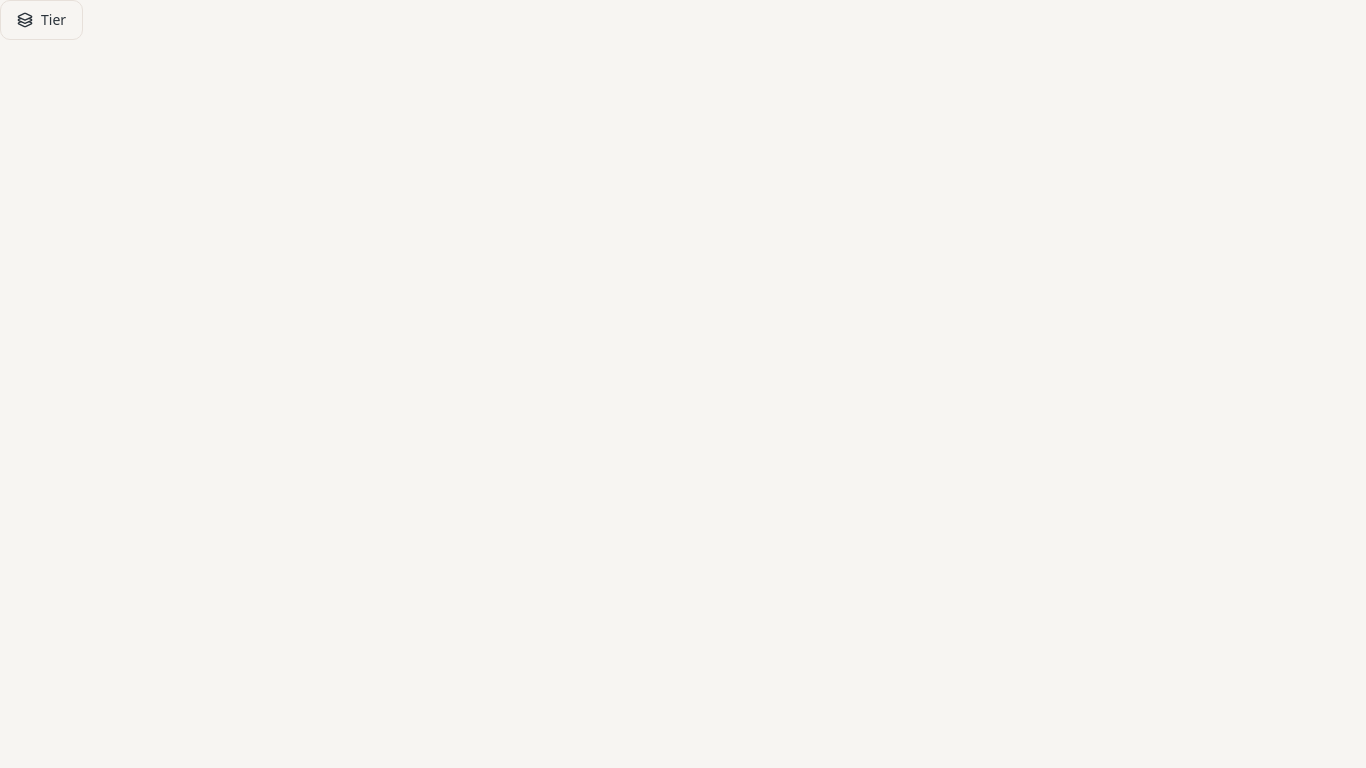
keeps deletion errors visible without claiming the tier was removed
The width and height of the screenshot is (1366, 768).
Step 1. Click the button "Tier" → point(42, 20), box [0, 0, 83, 40]
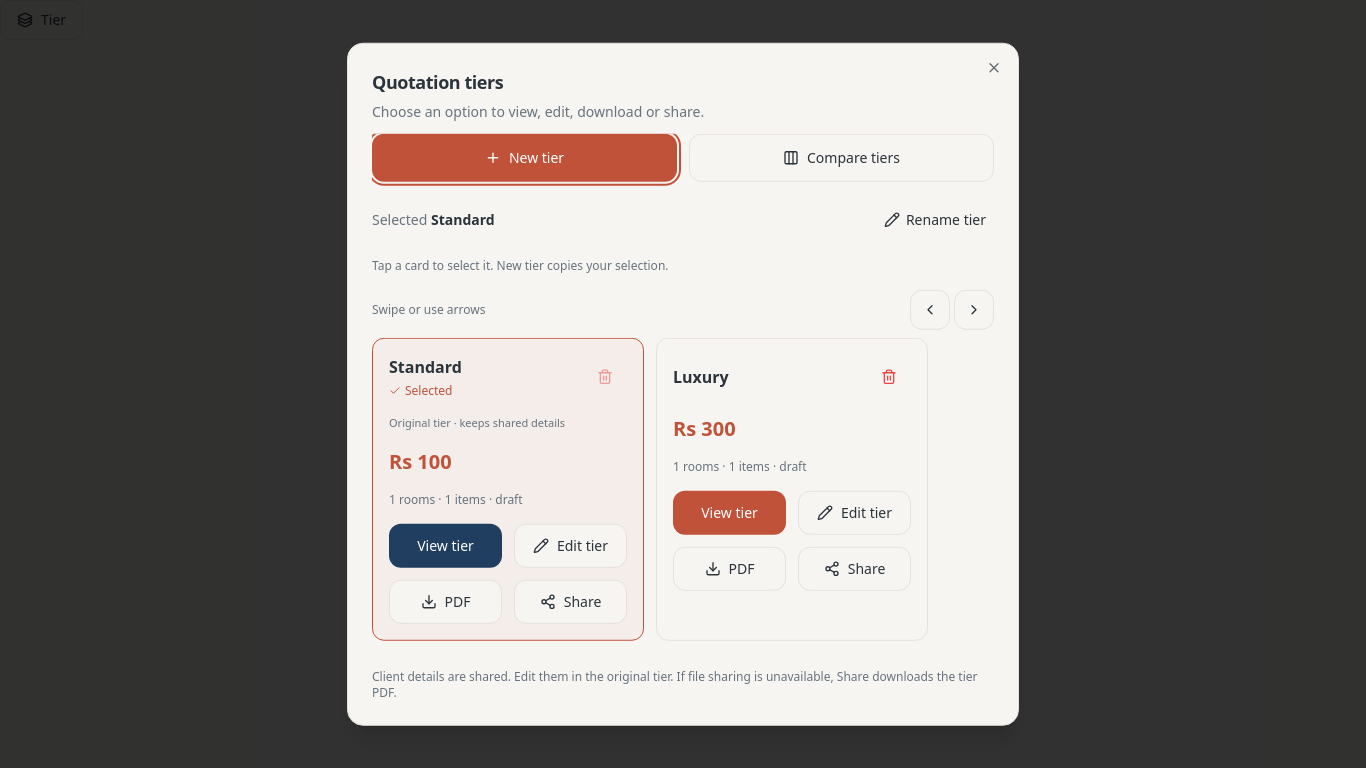
Step 2. Click the button named "Delete Luxury tier" → point(889, 377), box [867, 355, 911, 399]
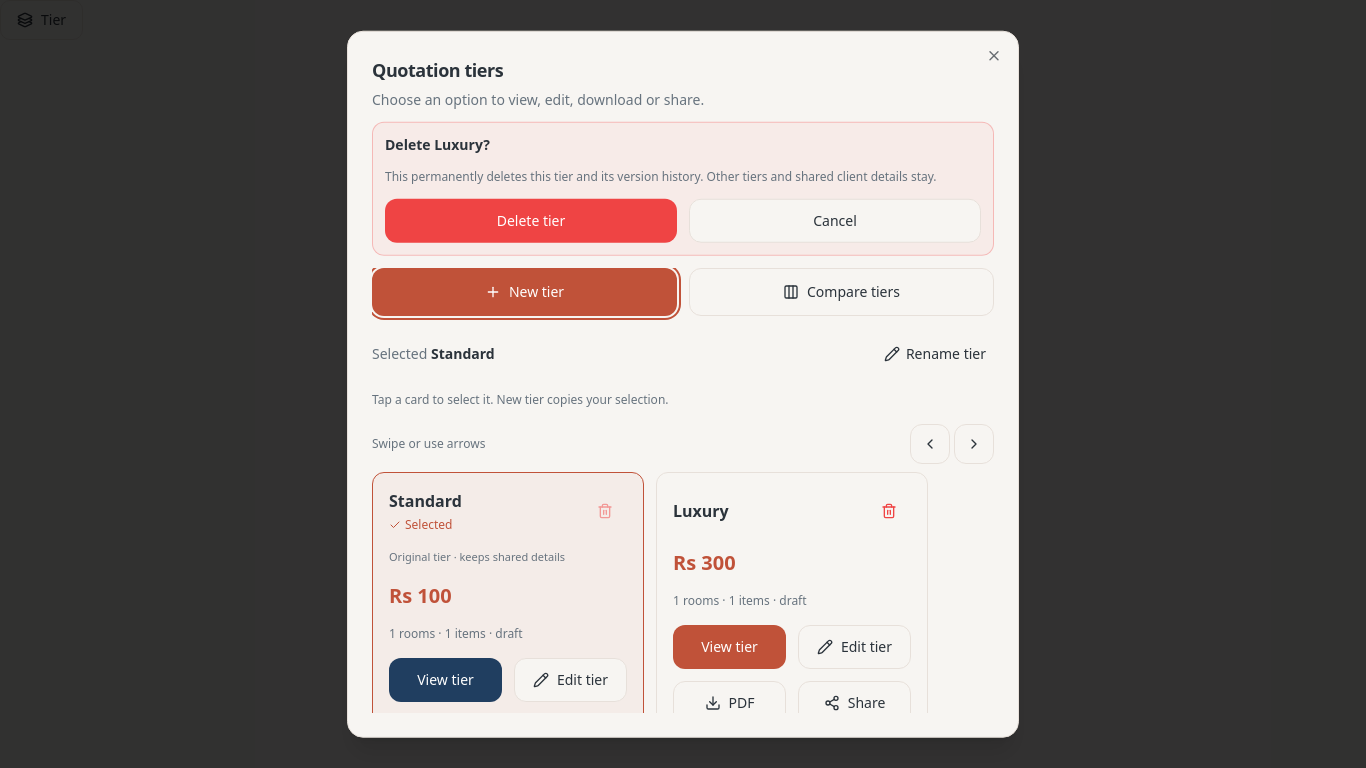
Step 3. Click the button "Delete tier" → point(531, 221), box [385, 199, 677, 243]
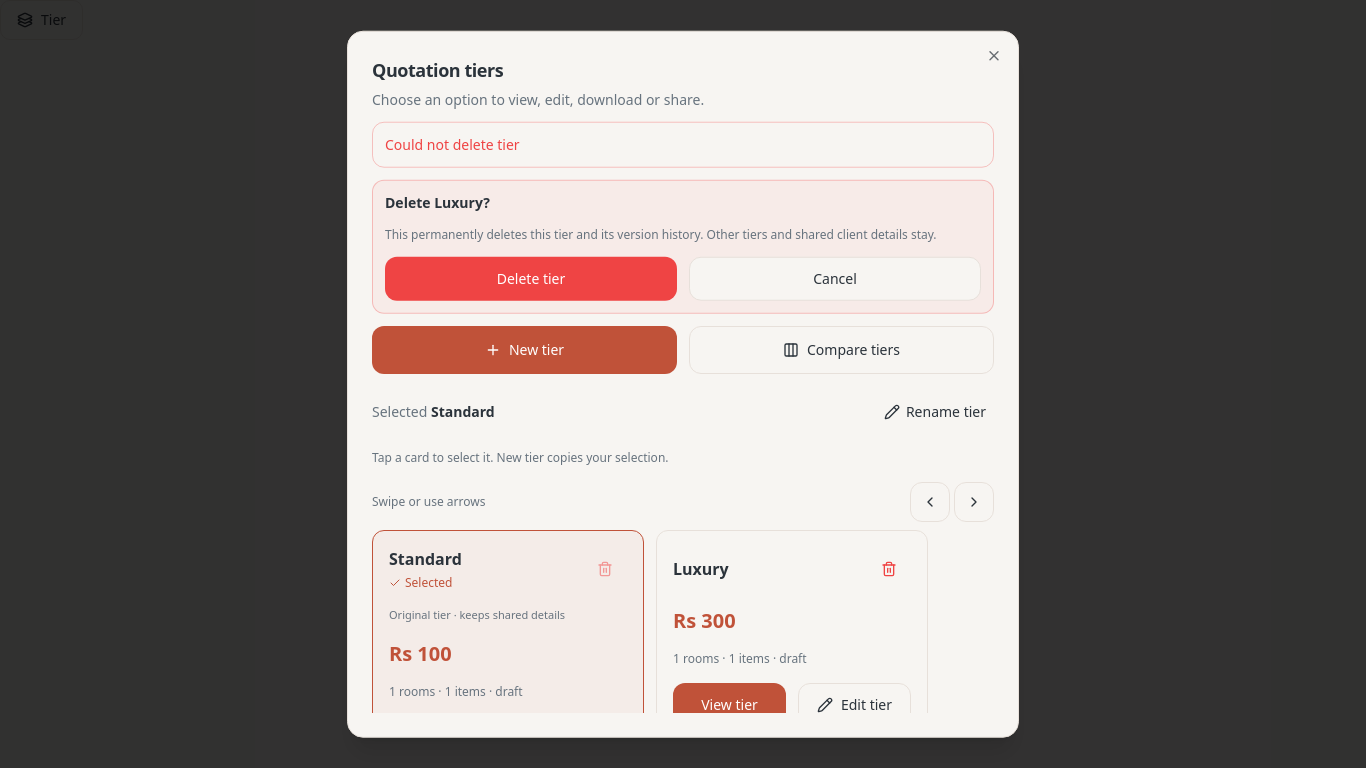
Result: the message reads "Could not delete tier" at [385, 135, 520, 154]
